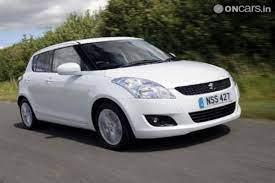Hatchback: (15, 37, 240, 149)
